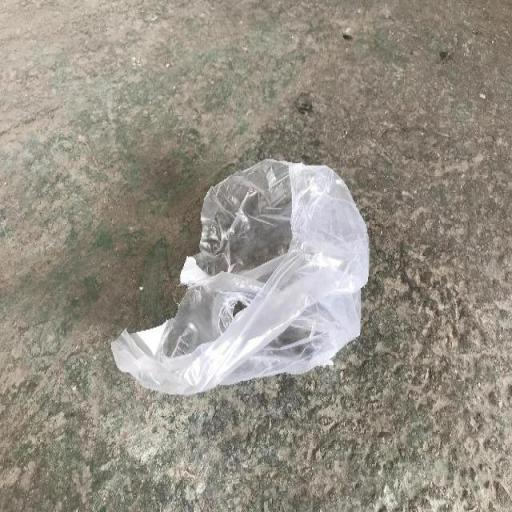plastic-bag: (108, 157, 372, 397)
